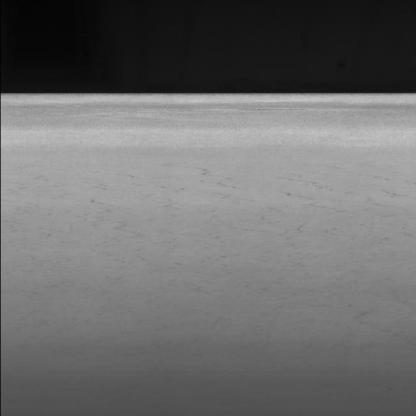silk_spot: (65, 167, 404, 255)
